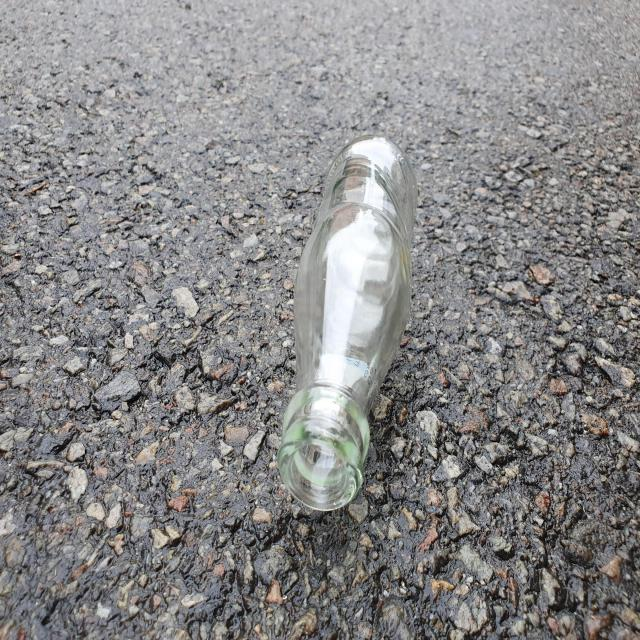glass: (278, 136, 418, 511)
